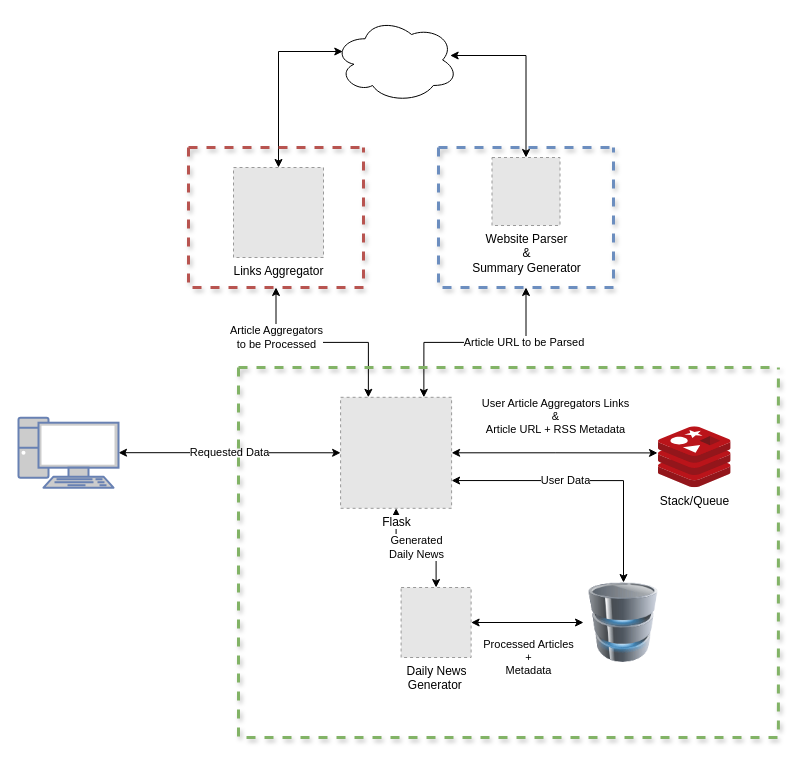
This 803x763 diagram has some shape labels left out. Grey dashed boxes stand in for pictures. The centre of each missing label's shape, as x and y in pixels:
Client: the point at 68,452
Database: the point at 623,622
Internet: the point at 395,59
